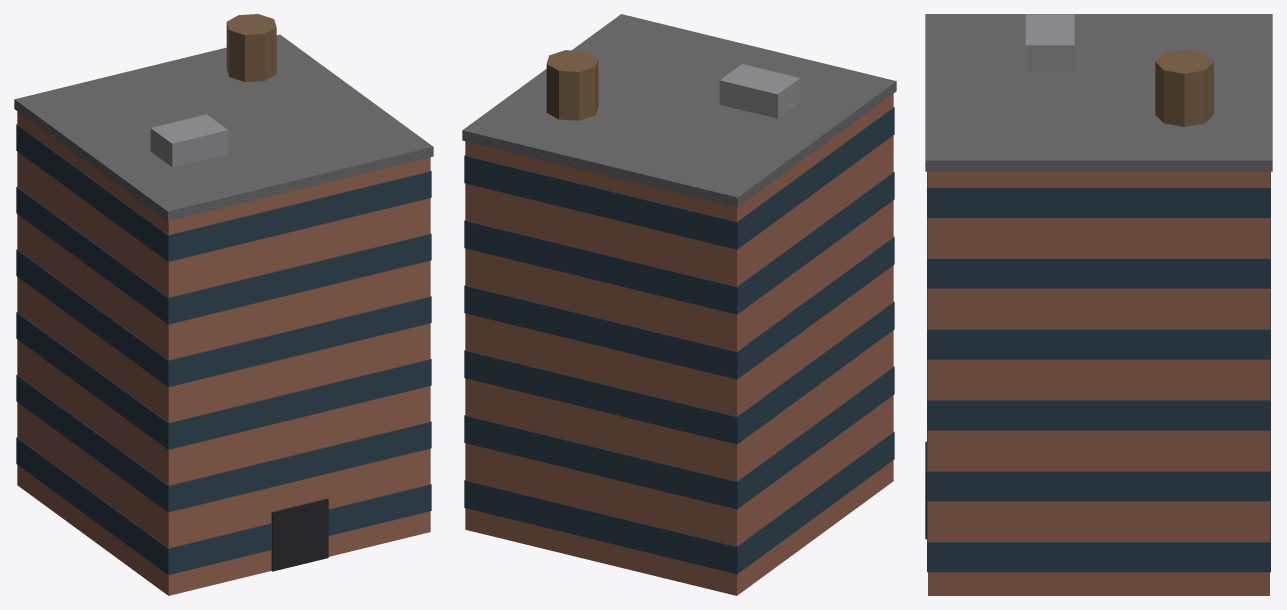
Rendered from building_b.glb.
3 views of the same model, side by side, from view 1: azimuth 30°, elevation 25°; view 2: azimuth 150°, elevation 25°; view 3: azimuth 270°, elevation 25° (orthographic). The views are drawn at different scales.
Visible parts, largest first — view 1: Body; view 2: Body; view 3: Body.
Boxes of the visible parts, box(x1,y1,x2,y2) form: Body: box(14, 14, 433, 595); Body: box(462, 14, 896, 595); Body: box(925, 14, 1272, 595).
Bounding box in the file's own units: 14.2 × 22.5 × 14.2.
